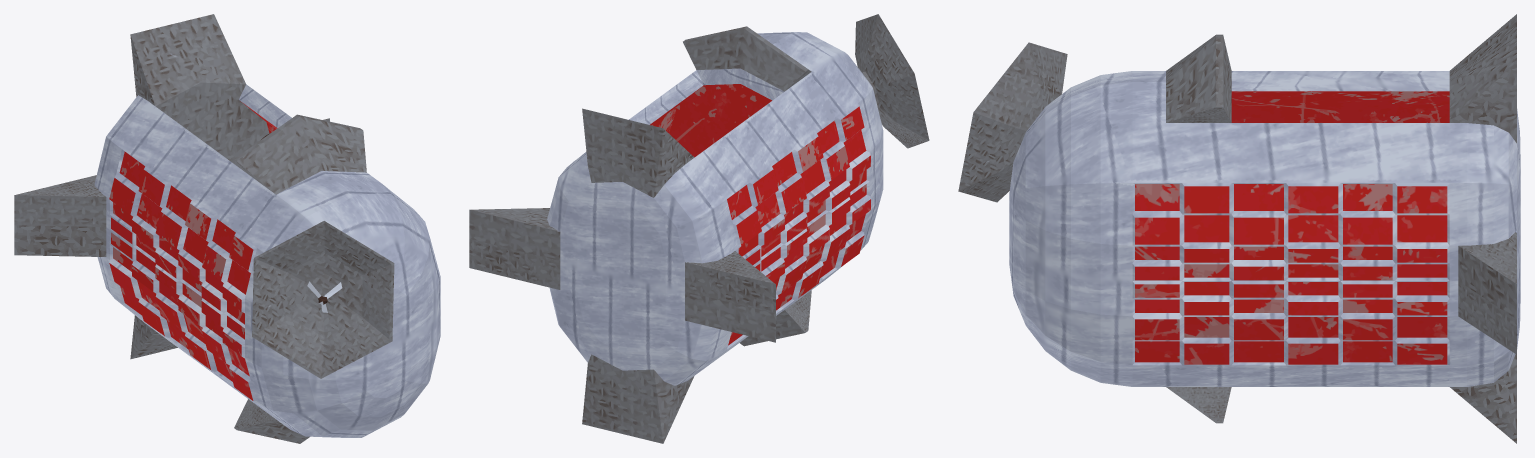
File: camapana.glb
3 views of the same model, side by side, from view 1: azimuth 30°, elevation 25°; view 2: azimuth 150°, elevation 25°; view 3: azimuth 270°, elevation 25° (orthographic). The views are drawn at different scales.
Parts seen in each view (by area): view 1: camapana; view 2: camapana; view 3: camapana.
Part boxes in pixels (x1=…): camapana: x1=14, y1=14, x2=440, y2=443; camapana: x1=469, y1=14, x2=929, y2=443; camapana: x1=958, y1=14, x2=1520, y2=443.
Bounding box in the file's own units: 3.48 × 3.44 × 4.56.
Materials: 1 (1 with a texture image).
